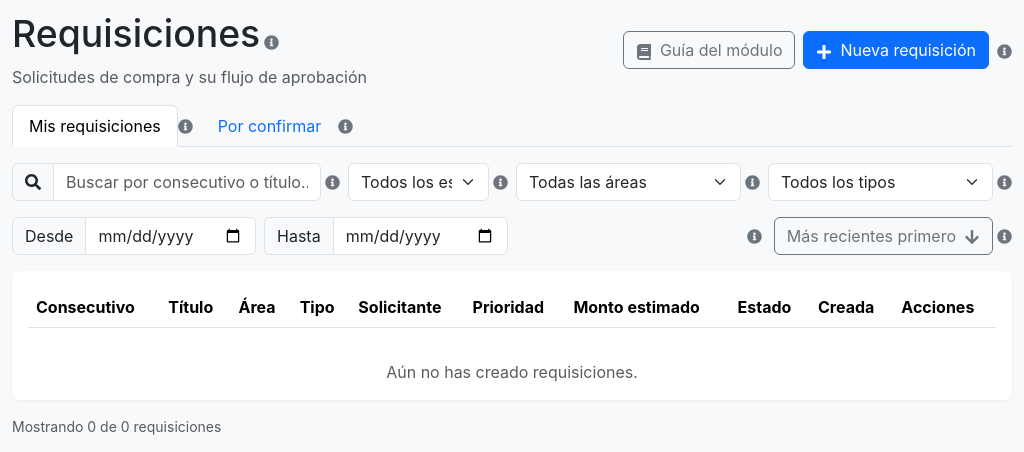
RequisicionesListPage › shows the filtered empty state after choosing a status
This screenshot has width=1024, height=452.
Select "Aprobada" in the dropdown named "Filtrar por estado" at (418, 182), box [348,163,489,201]
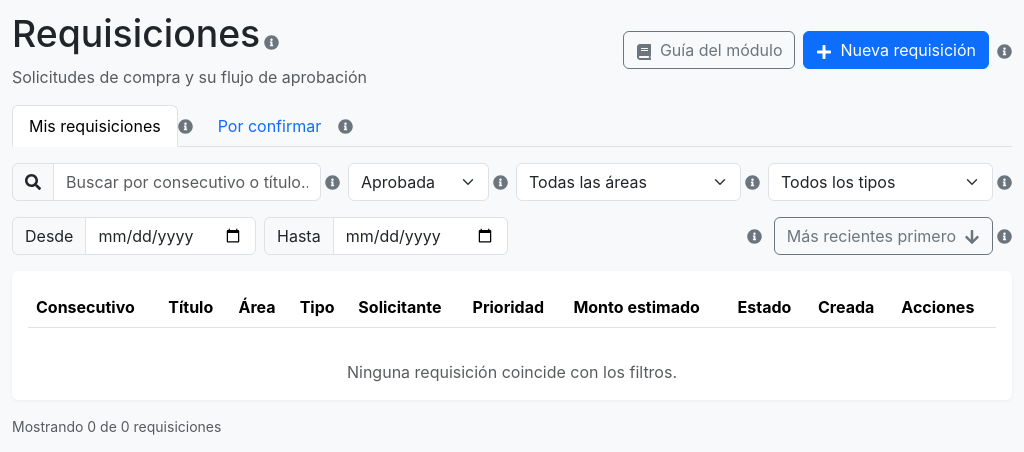
Now the text "Ninguna requisición coincide con los filtros." is shown, box [347,362,677,382]
